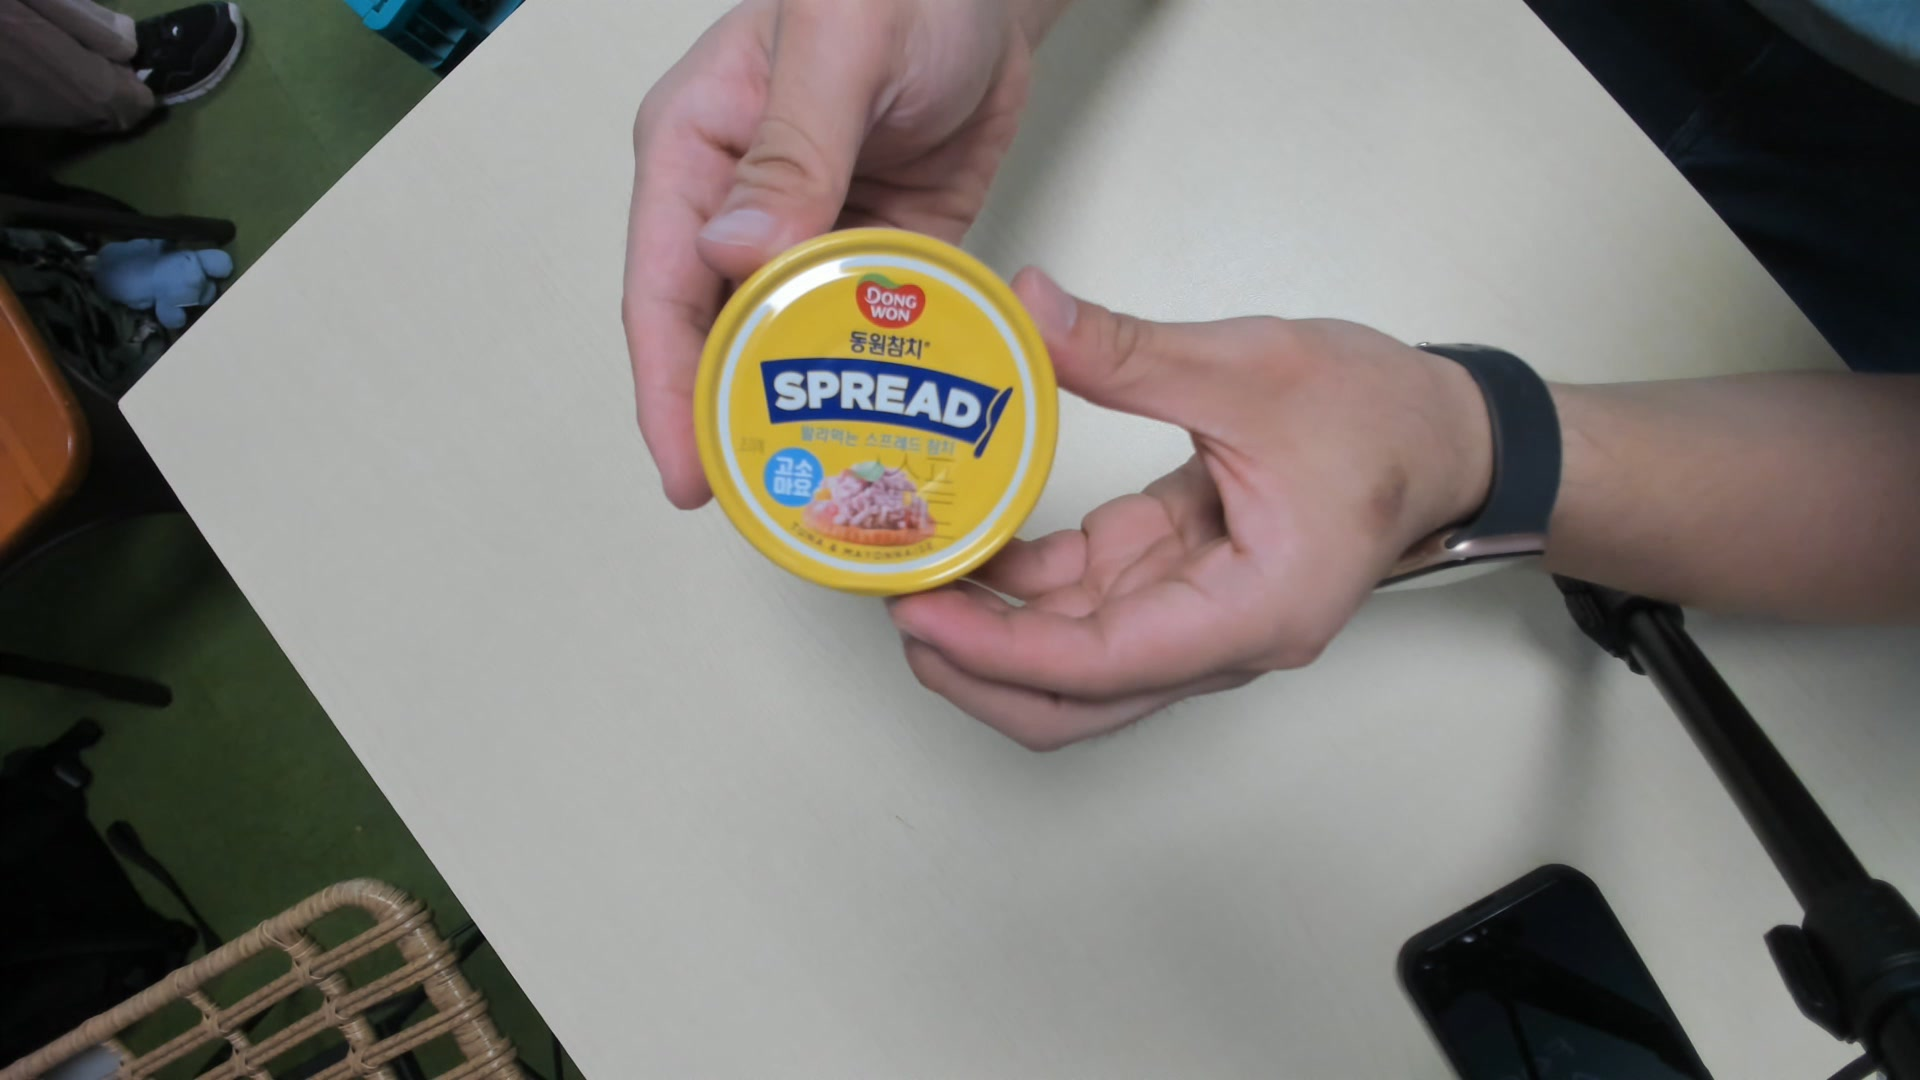OtherSauceDressing_0-99g_NonHalal_NonHealthy: (687, 225, 1067, 593)
